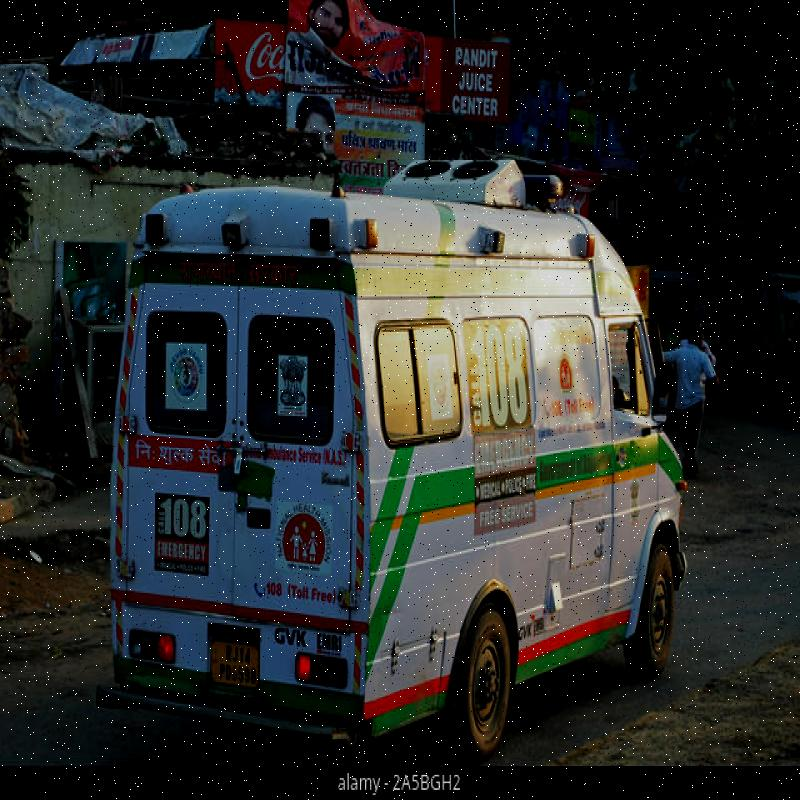ambulance: (95, 164, 685, 731)
